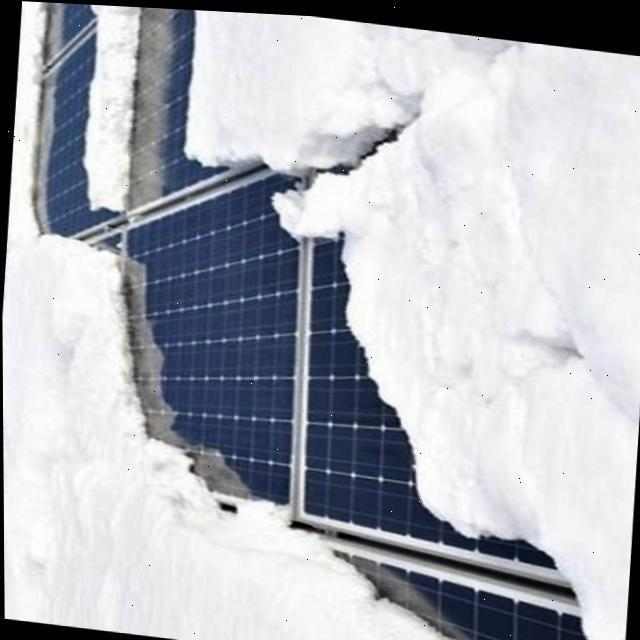Anomaly Solar Panel: (0, 0, 640, 640)
Snow: (176, 7, 640, 640), (2, 226, 470, 640), (76, 4, 143, 211), (5, 1, 51, 260)
